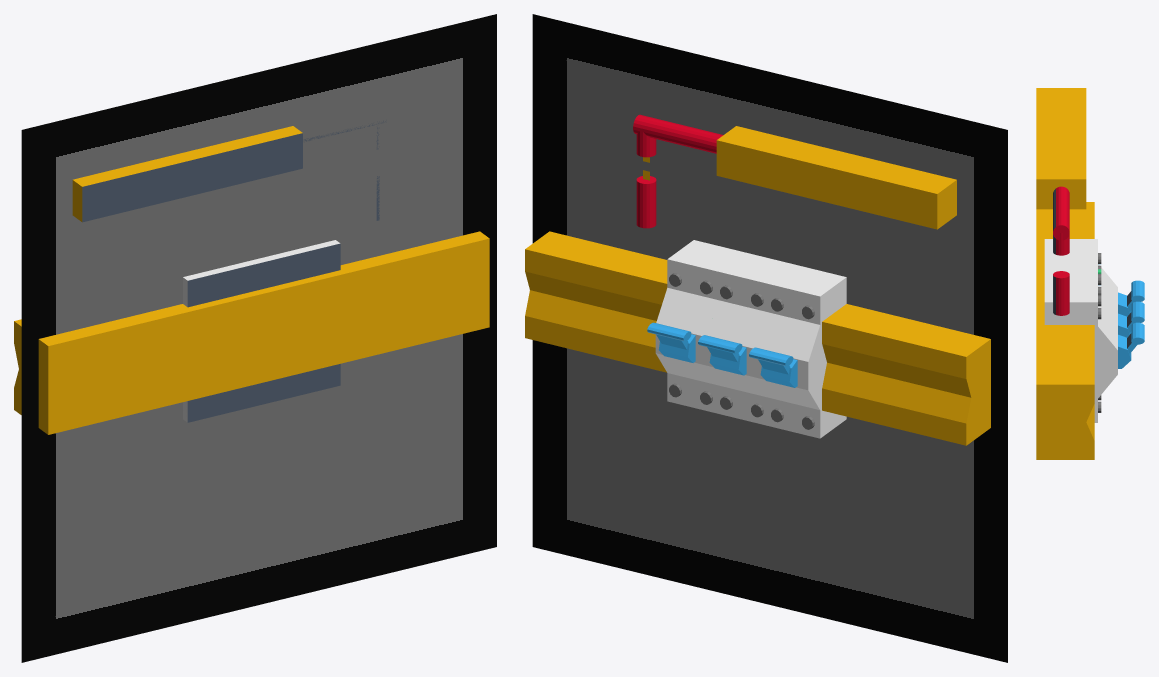
Rendered from light-box-inside.obj.
3 views of the same model, side by side, from view 1: azimuth 30°, elevation 25°; view 2: azimuth 150°, elevation 25°; view 3: azimuth 270°, elevation 25° (orthographic). The views are drawn at different scales.
Visible parts, largest first — view 1: plane; view 2: plane; view 3: plane.
Part boxes in pixels (x1=…): plane: x1=14, y1=14, x2=496, y2=662; plane: x1=525, y1=14, x2=1007, y2=662; plane: x1=1036, y1=88, x2=1144, y2=459.
Bounding box in the file's own units: 0.875 × 0.9375 × 0.2031.
1 material, 1 textured.
